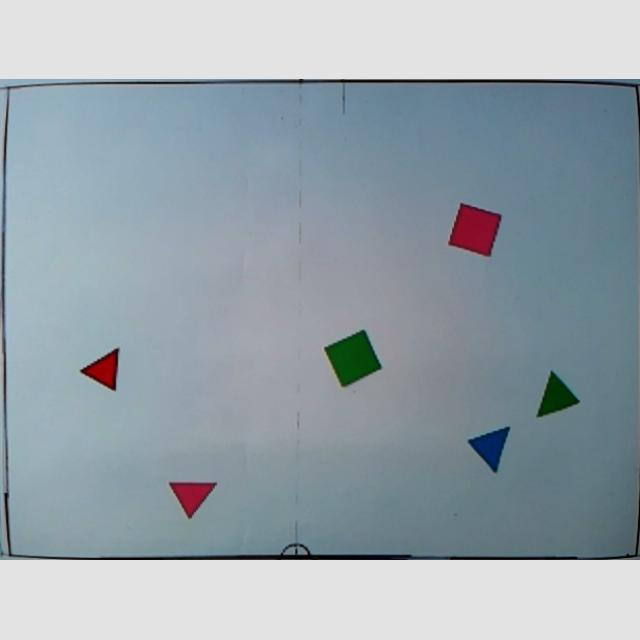blueTriangle: (468, 428, 510, 476)
greenSquare: (322, 332, 382, 388)
greenTriangle: (534, 372, 580, 420)
pinkSquare: (448, 204, 502, 260)
pinkTriangle: (170, 482, 218, 522)
redTriangle: (78, 348, 120, 394)
